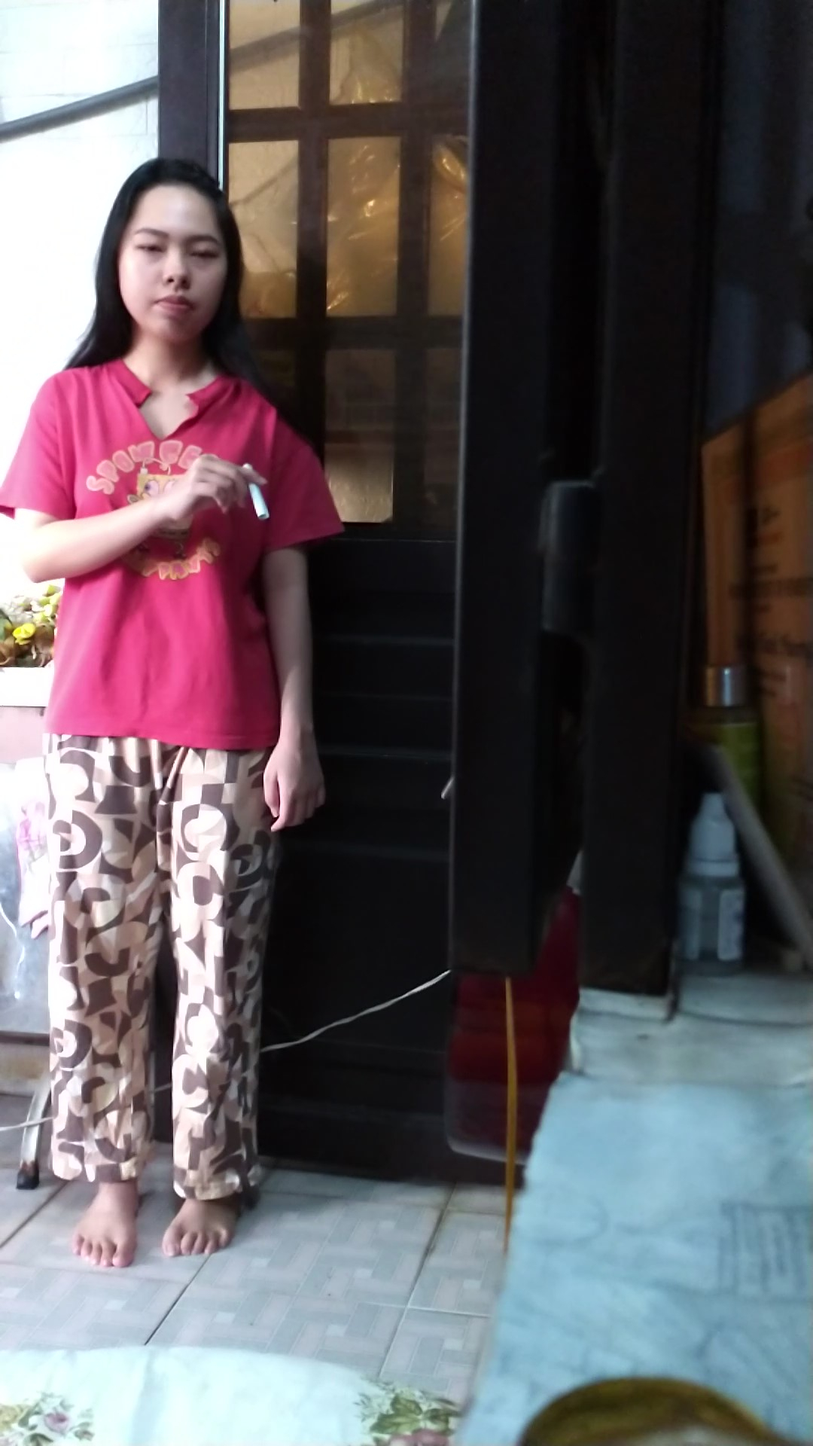cigarette: (245, 480, 276, 528)
person: (3, 129, 340, 1315)
